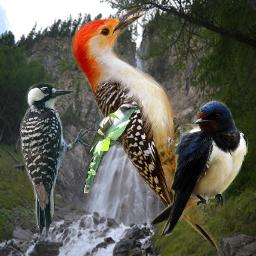Cuckoo: (83, 103, 142, 193)
Swallow: (149, 100, 249, 240)
Woodpecker: (71, 5, 220, 255), (17, 82, 95, 238)
